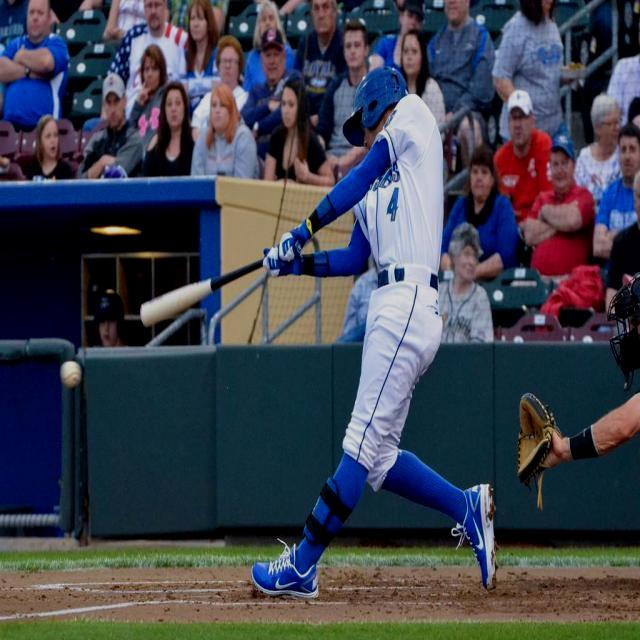baseball bat: (140, 252, 266, 330)
sports ball: (59, 358, 83, 389)
